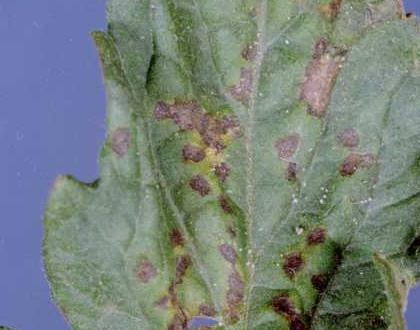Tomato leaf bacterial spot: (7, 0, 420, 330)
